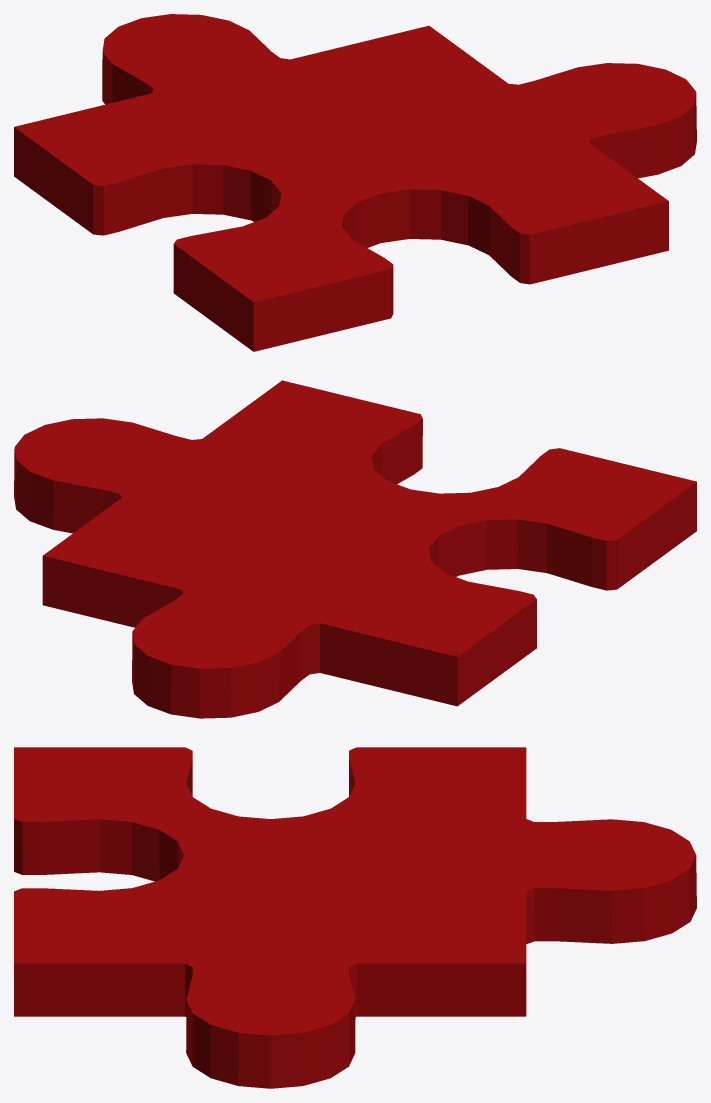
File: puzzle_piece_03.fbx
3 views of the same model, one above another, from view 1: azimuth 30°, elevation 25°; view 2: azimuth 150°, elevation 25°; view 3: azimuth 270°, elevation 25° (orthographic). The views are drawn at different scales.
Visible parts, largest first — view 1: Puzzle Piece 3; view 2: Puzzle Piece 3; view 3: Puzzle Piece 3.
Boxes of the visible parts, left/top/right/bottom form: Puzzle Piece 3: left=14, top=14, right=696, bottom=351; Puzzle Piece 3: left=14, top=380, right=696, bottom=718; Puzzle Piece 3: left=14, top=747, right=696, bottom=1088.
Bounding box in the file's own units: 200 × 17.12 × 200.
